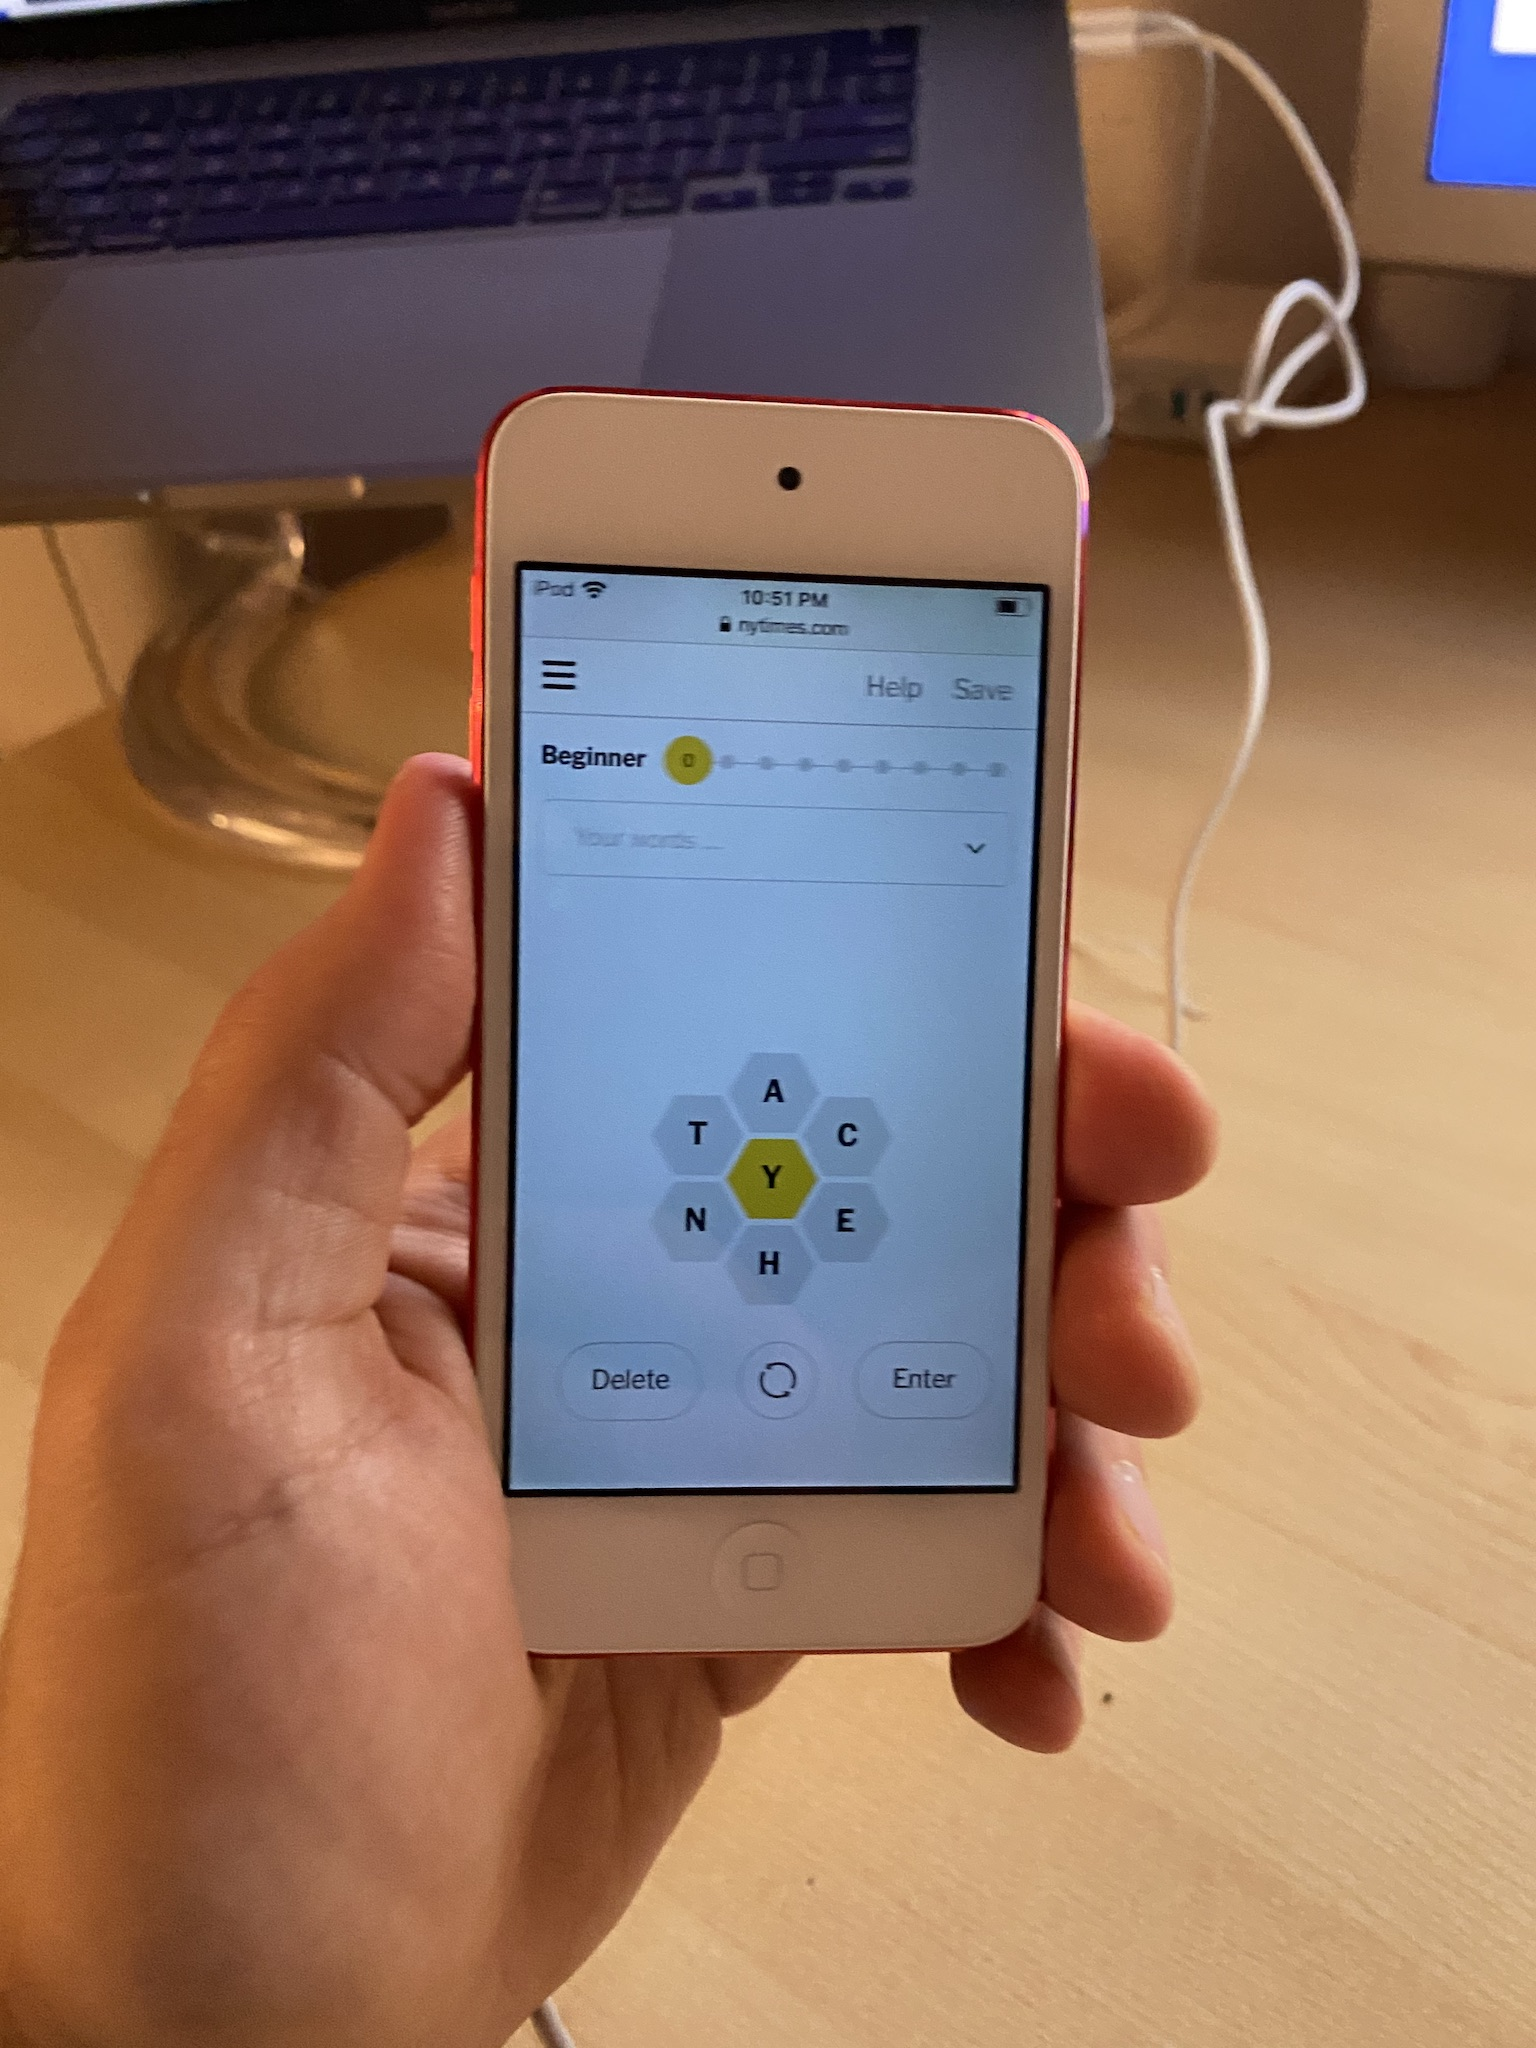Board: (618, 1034, 913, 1309)
